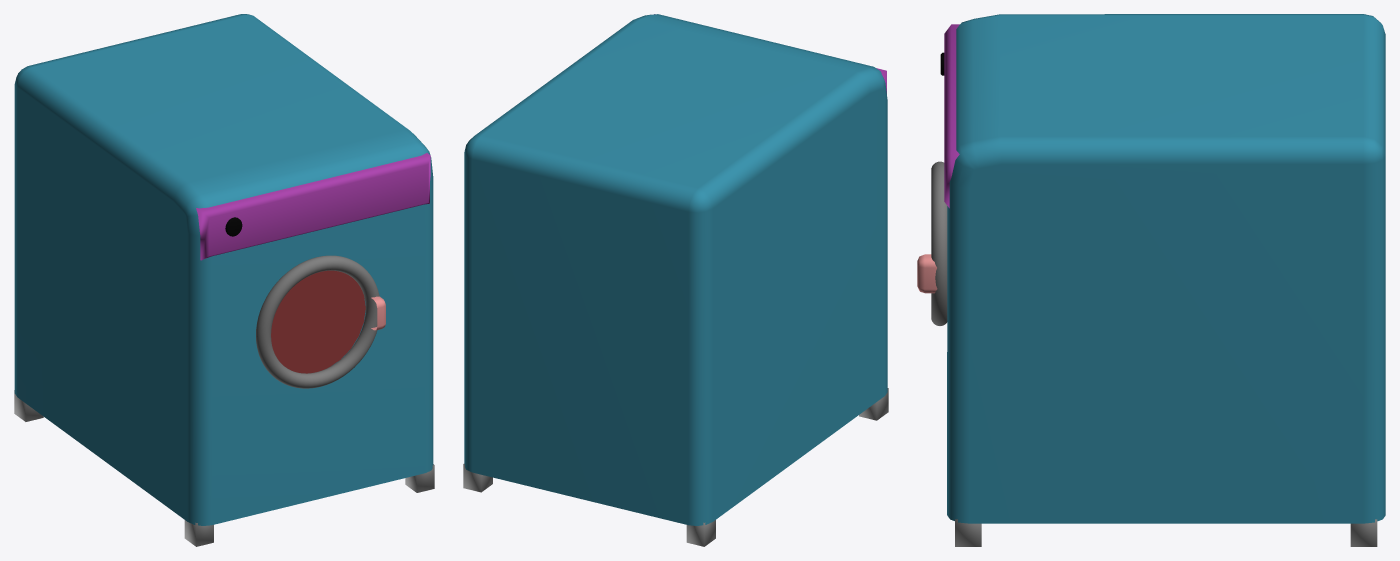
File: lavadora.fbx
3 views of the same model, side by side, from view 1: azimuth 30°, elevation 25°; view 2: azimuth 150°, elevation 25°; view 3: azimuth 270°, elevation 25° (orthographic). The views are drawn at different scales.
Visible parts, largest first — view 1: Lavadora1; view 2: Lavadora1; view 3: Lavadora1.
Boxes of the visible parts, x1=… form: Lavadora1: x1=14, y1=14, x2=434, y2=546; Lavadora1: x1=463, y1=14, x2=888, y2=546; Lavadora1: x1=917, y1=14, x2=1385, y2=546.
Bounding box in the file's own units: 58.64 × 80.11 × 84.35.
